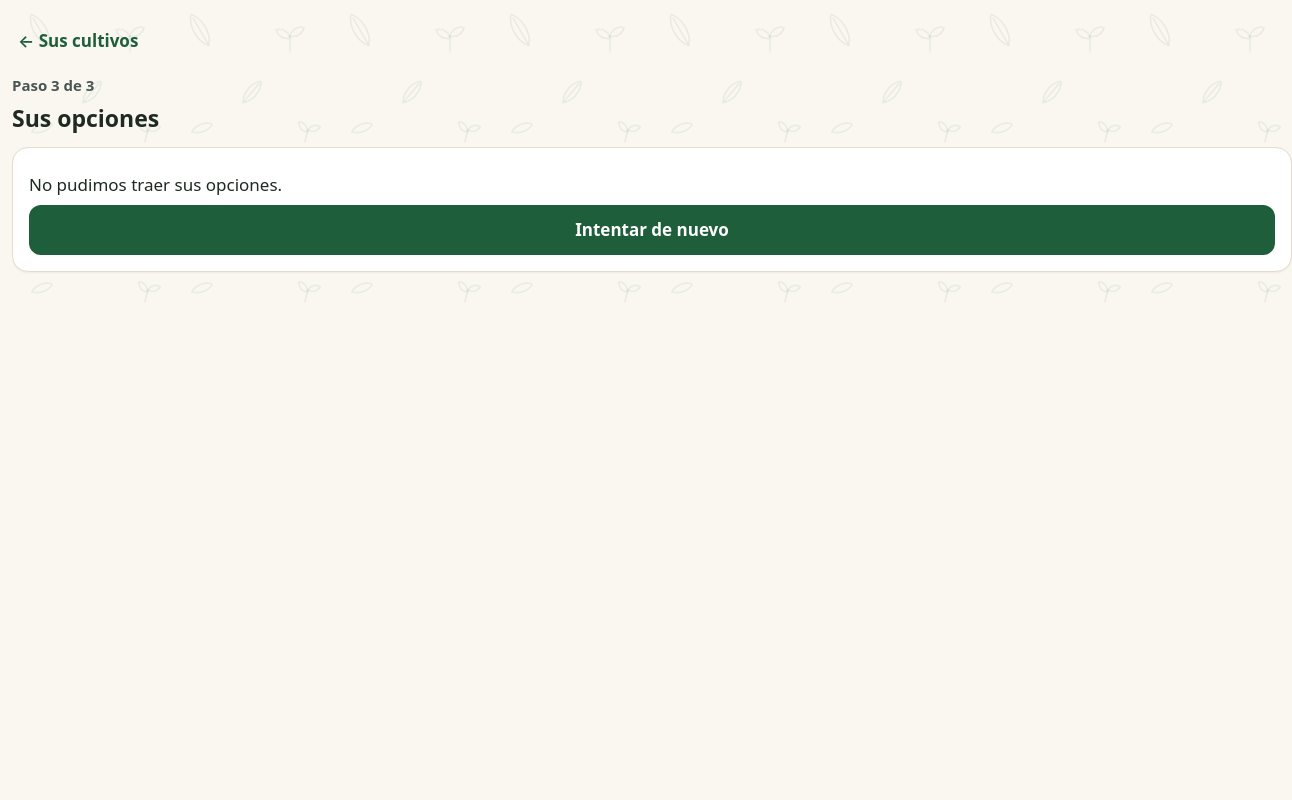
500 shows 'Intentar de nuevo' and a click retries once
Click the button "Intentar de nuevo". click: (652, 230)
box: [29,205,1275,255]
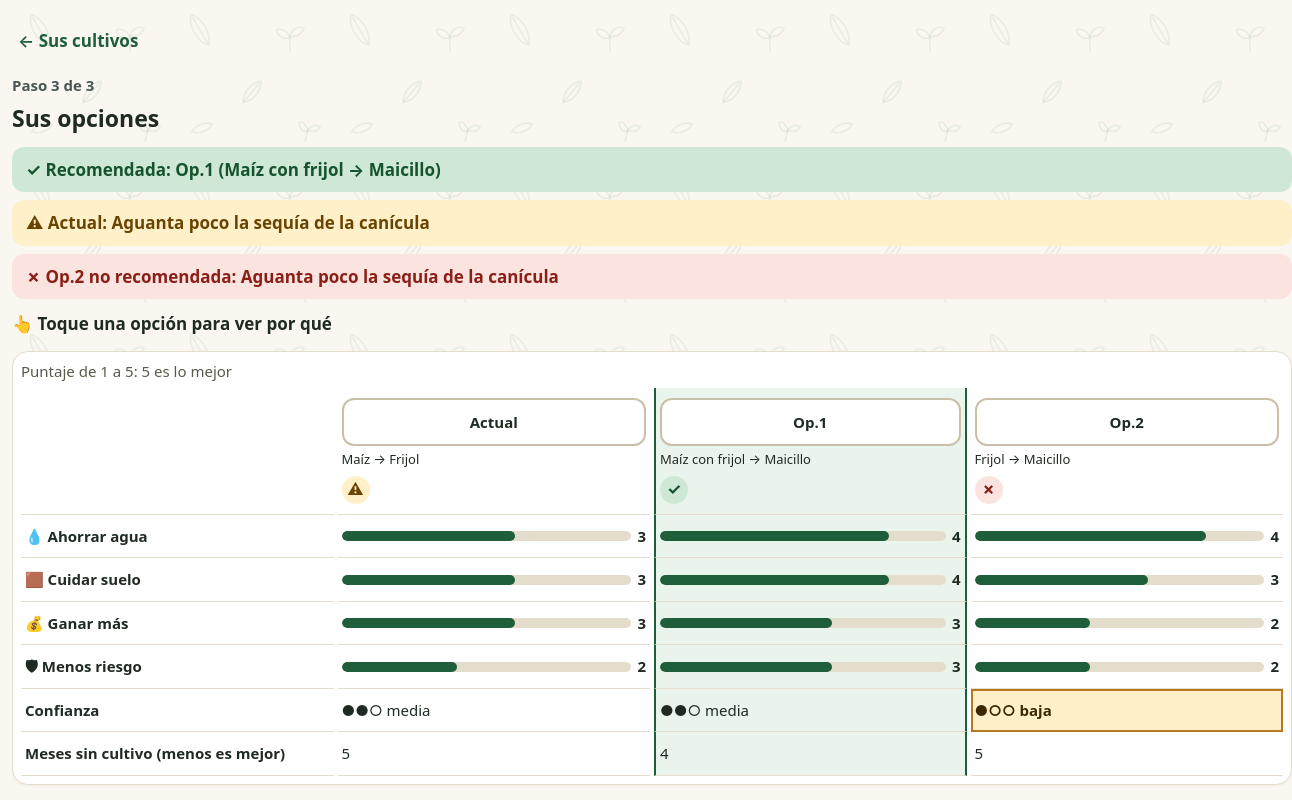
Now the button "Op.1" is shown, box [660,398,960,446]
